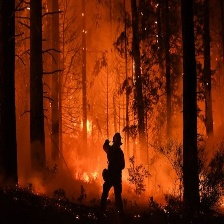fire: (80, 116, 103, 135), (76, 165, 100, 183)
smoke: (128, 132, 189, 205)
